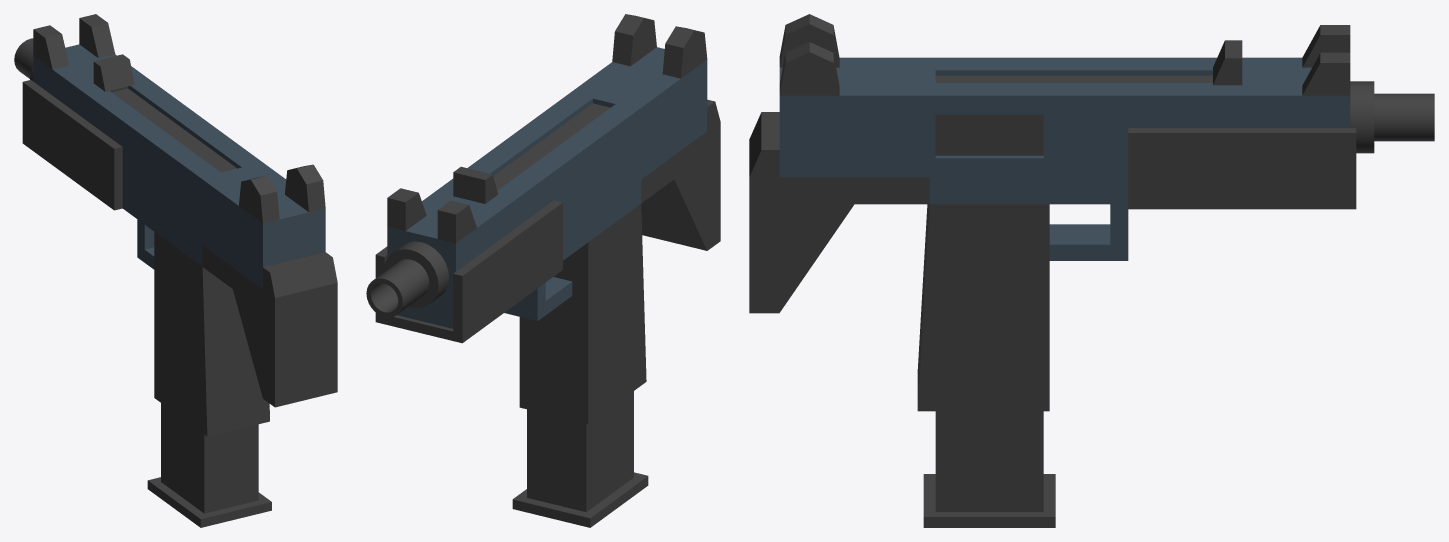
Rendered from uziLong.dae.
3 renders of one model, left to right at view 1: azimuth 30°, elevation 25°; view 2: azimuth 150°, elevation 25°; view 3: azimuth 270°, elevation 25°, orthographic. The views are drawn at different scales.
Visible parts, largest first — view 1: Group (×4); view 2: Group (×4); view 3: Group (×4).
Part boxes in pixels (x1,y1,x2,y2): Group (×4): (14,14,337,527); Group (×4): (366,14,720,527); Group (×4): (749,14,1434,527).
Bounding box in the file's own units: 0.0727 × 0.333 × 0.4368.
